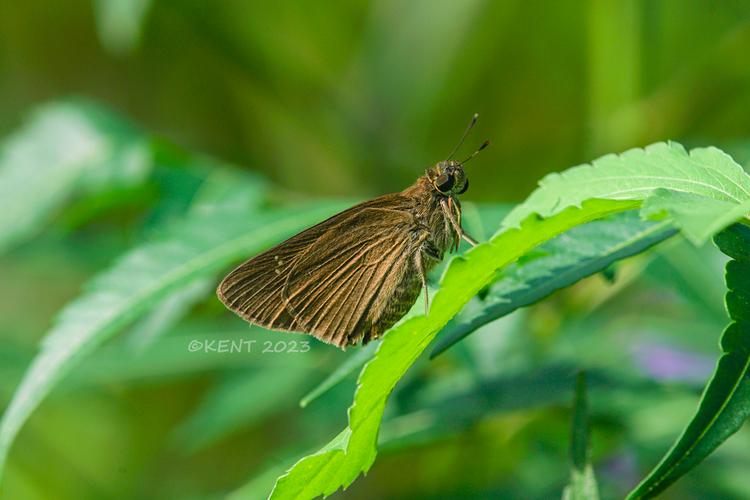Hesperiidae: (214, 111, 497, 354)
